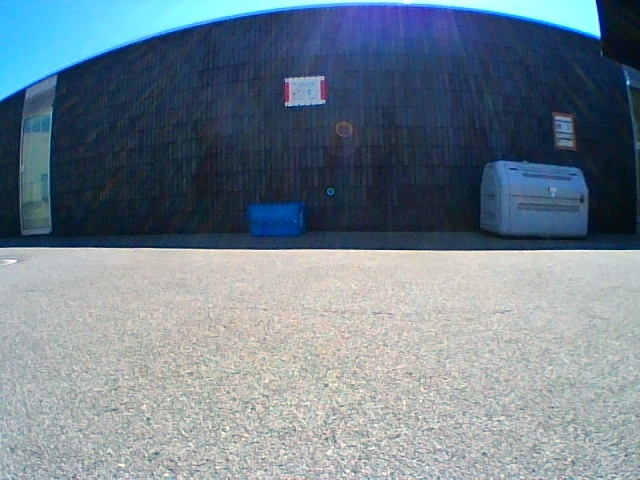blue_box: (250, 203, 303, 237)
tag: (300, 213, 303, 225)
